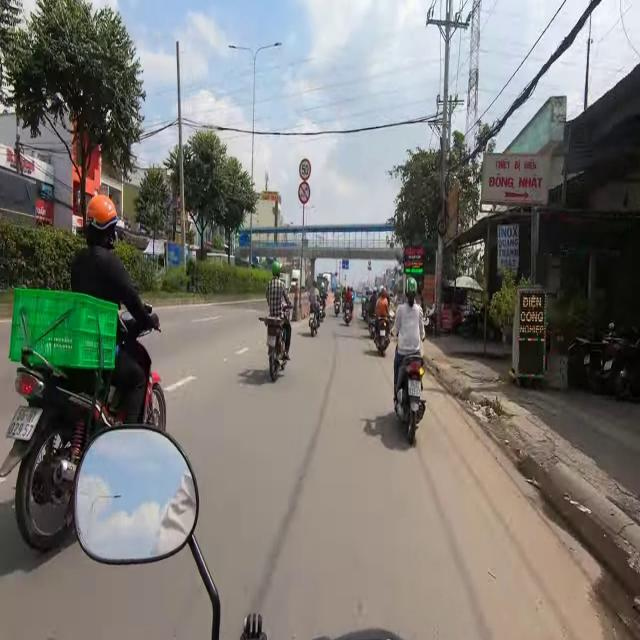bien_trang: (8, 404, 38, 441), (408, 378, 423, 400)
